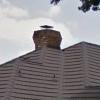Chimney: (28, 19, 58, 51)
